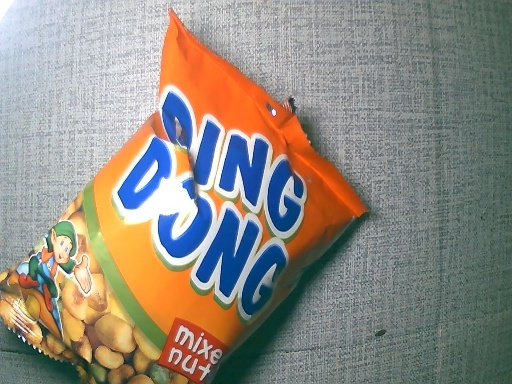plastic: (1, 1, 371, 384)
